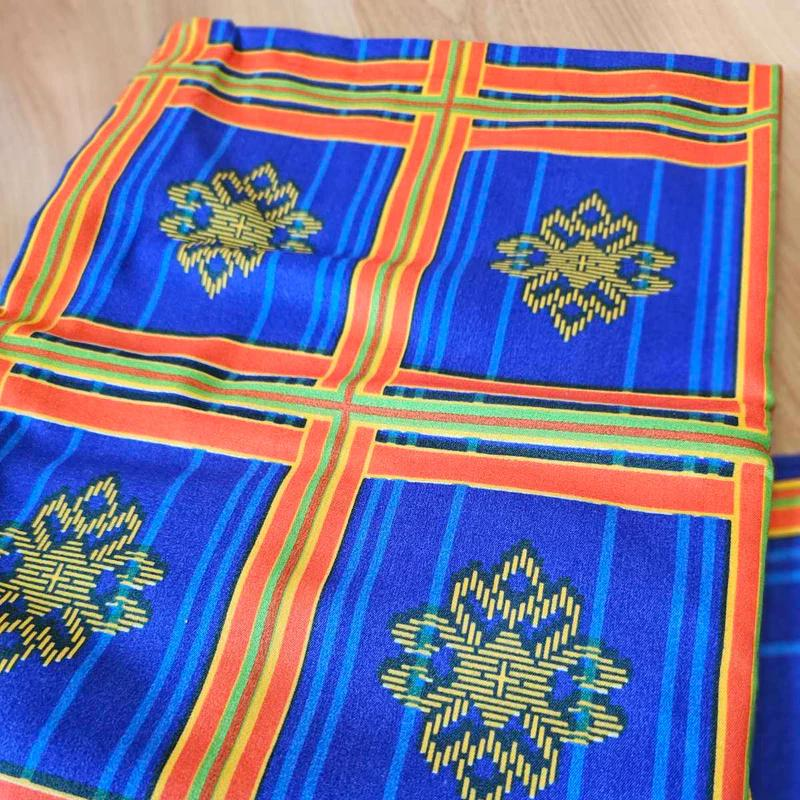malong: (2, 2, 800, 800)
